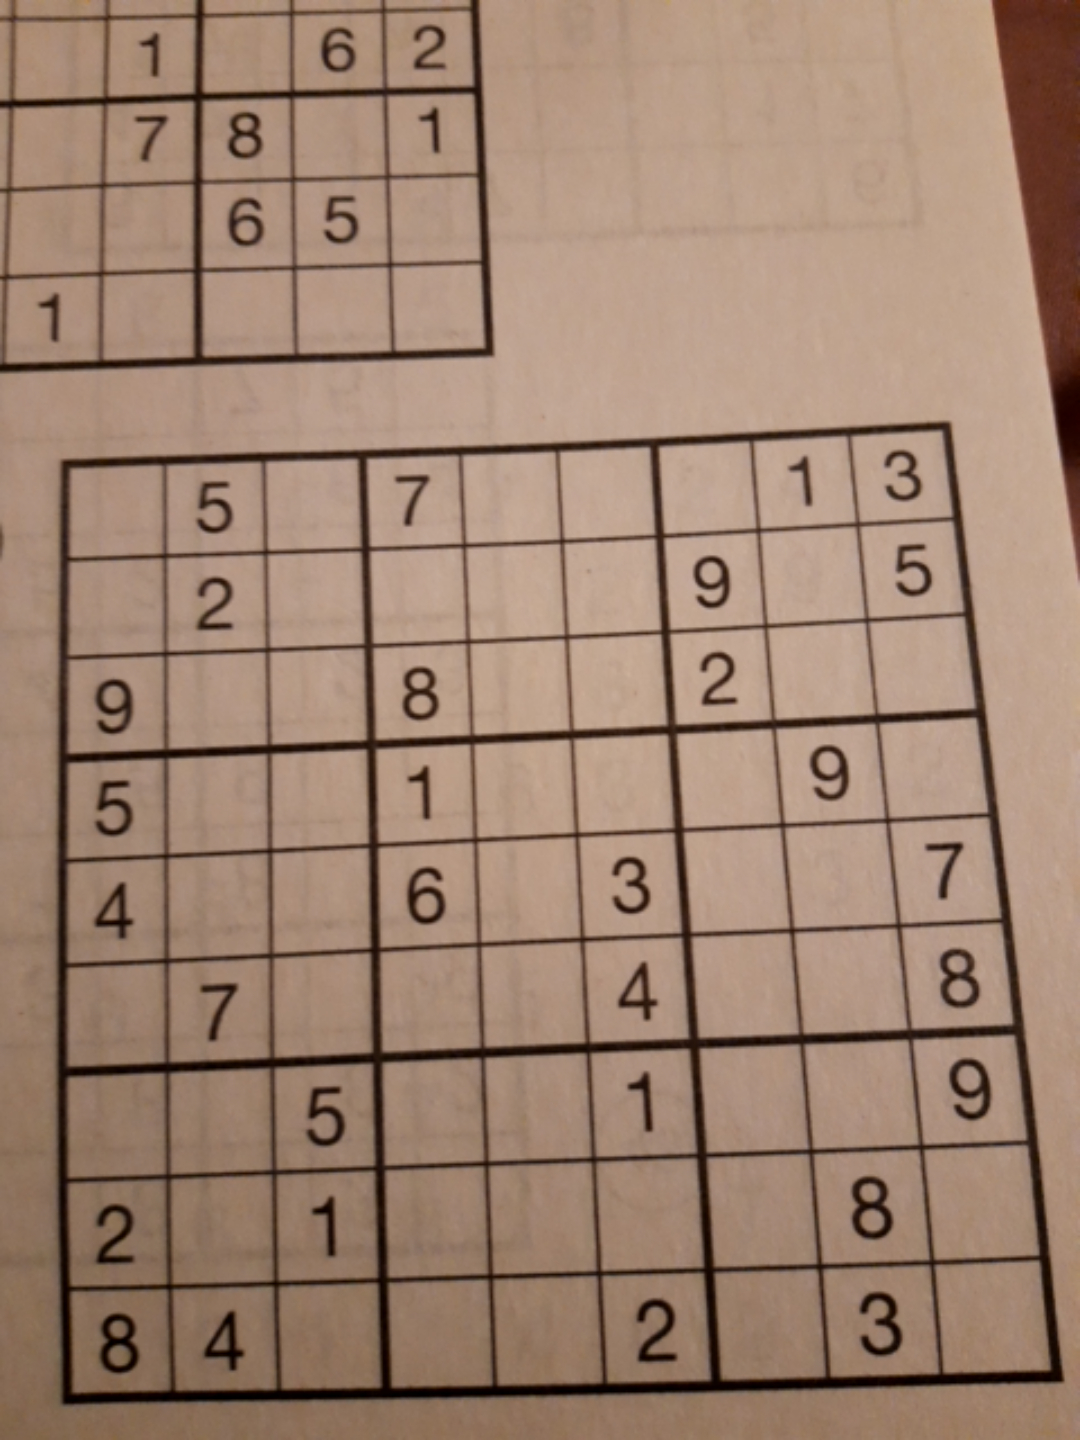sudoku: (49, 422, 1063, 1397)
